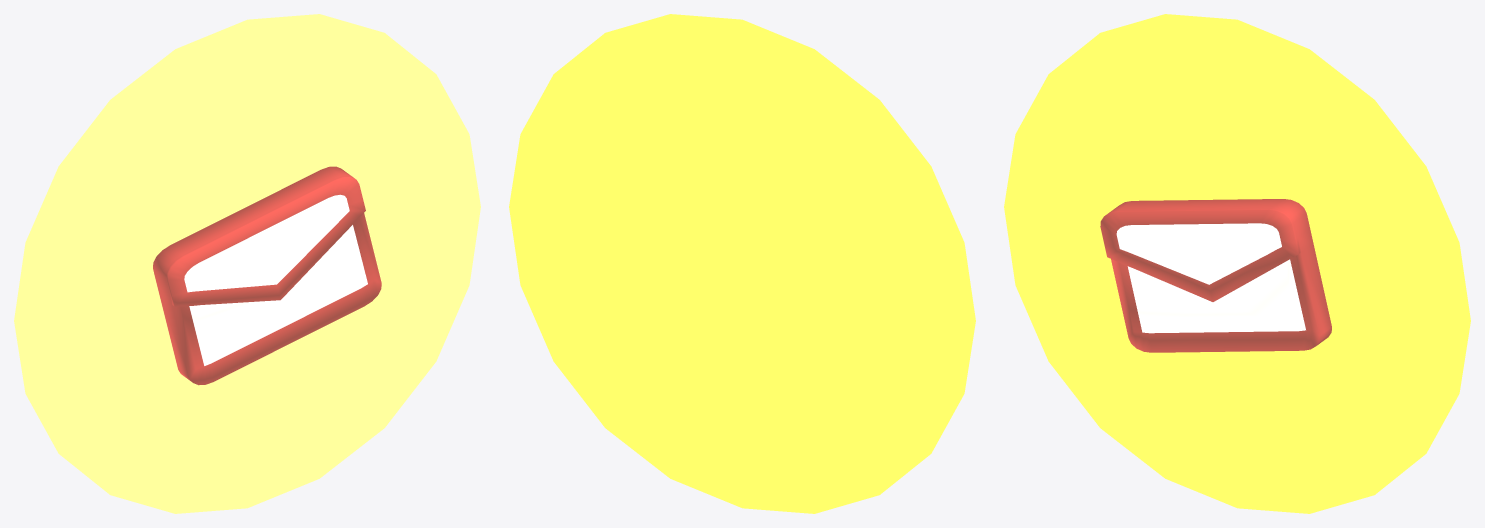
File: letter.gltf
The picture shows the model from 3 angles, left to right: view 1: azimuth 30°, elevation 25°; view 2: azimuth 150°, elevation 25°; view 3: azimuth 330°, elevation 25°; orthographic projection.
Visible parts, largest first — view 1: shine, letter; view 2: shine; view 3: shine, letter.
Part boxes in pixels (x1=…): shine: x1=14, y1=14, x2=480, y2=513; letter: x1=153, y1=166, x2=381, y2=385; shine: x1=509, y1=14, x2=975, y2=513; shine: x1=1004, y1=14, x2=1470, y2=513; letter: x1=1100, y1=199, x2=1331, y2=352.
Size of the model in its own units: 1.02 by 1.02 by 0.1086.
